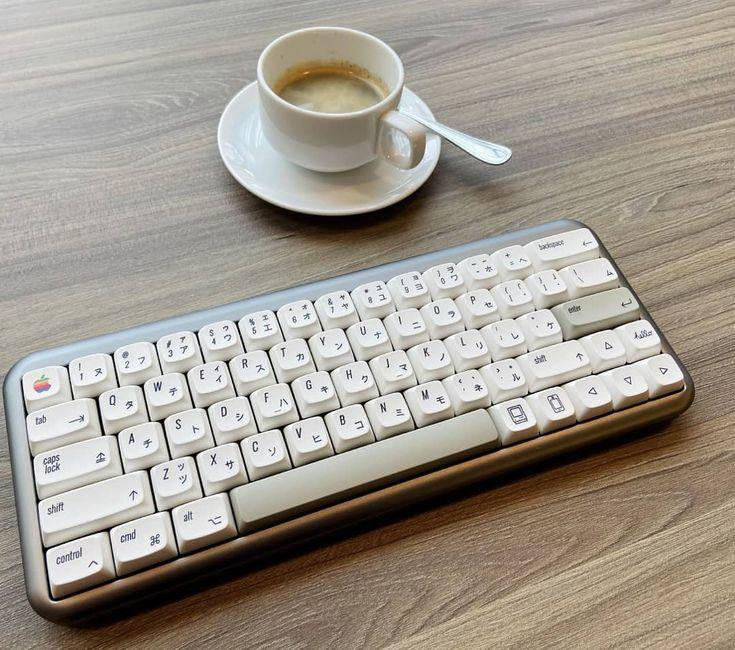keyboard: (1, 217, 695, 627)
